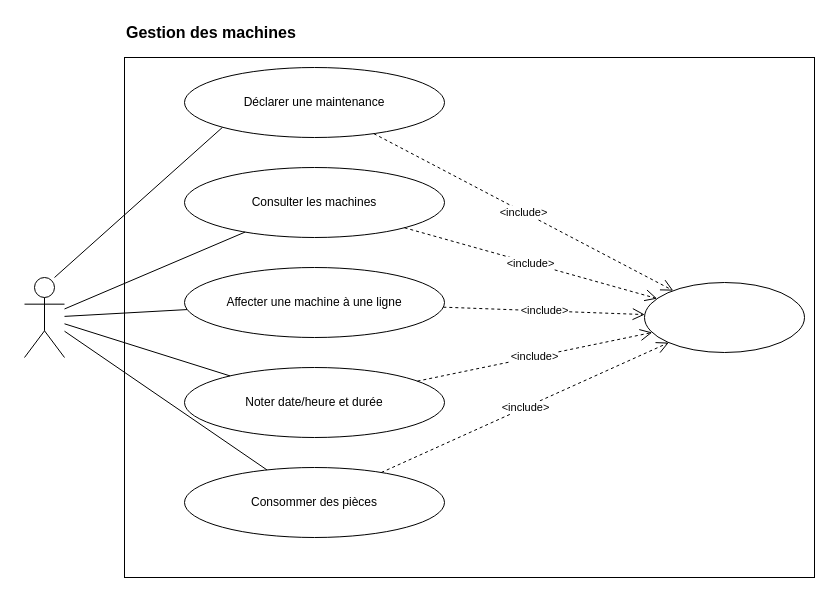
Some shapes in this 832 by 595 pixel diagram are drawn without their labels. The box of each missing label's shape, as (x1, y1, x2, y2) in pixels:
Opérateur: (24, 276, 64, 358)
S'authentifier: (644, 282, 804, 352)
